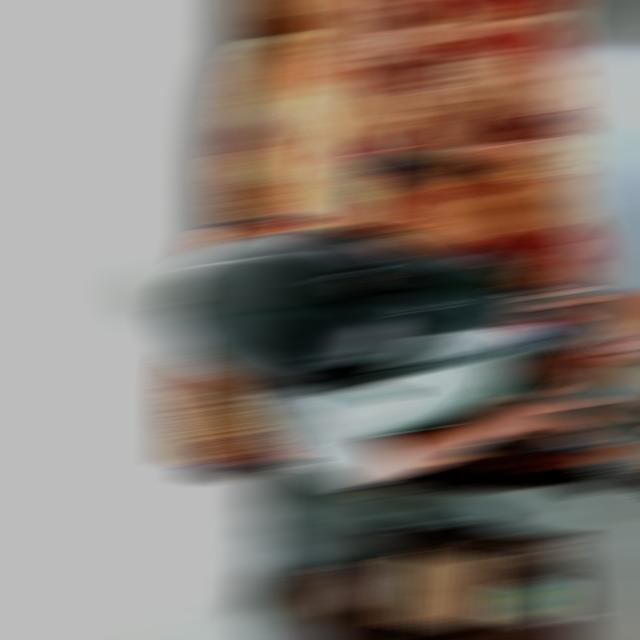With Helmet: (158, 228, 538, 392)
